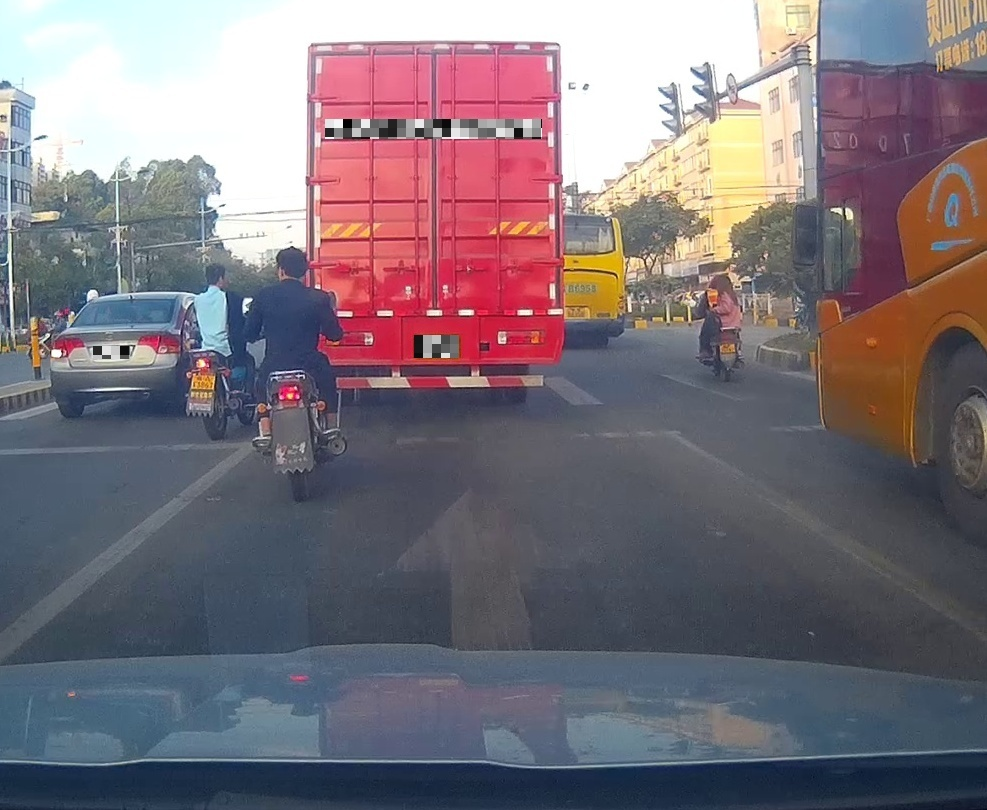L_light: (49, 337, 84, 359), (325, 332, 374, 346)
R_light: (136, 333, 180, 354), (497, 330, 545, 344)
T_light: (415, 52, 452, 65), (119, 299, 144, 306)
day-left: (49, 292, 181, 419)
day-no: (305, 40, 564, 404)
plate_1: (93, 346, 130, 359)
plate_2: (325, 119, 542, 139)
plate_3: (414, 335, 459, 358)
